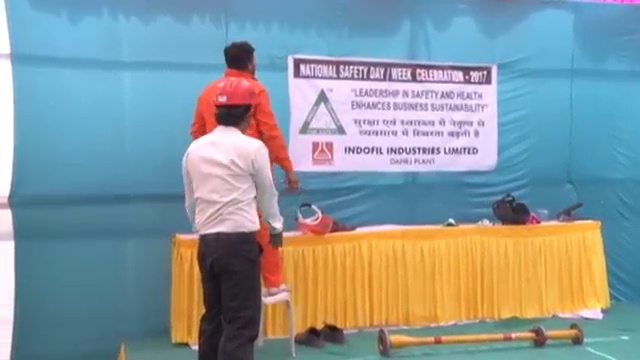helmet: (211, 77, 258, 109)
helmet_off: (223, 41, 257, 77)
helmet_on: (211, 76, 259, 132)
person: (174, 74, 284, 360), (194, 42, 302, 291)
